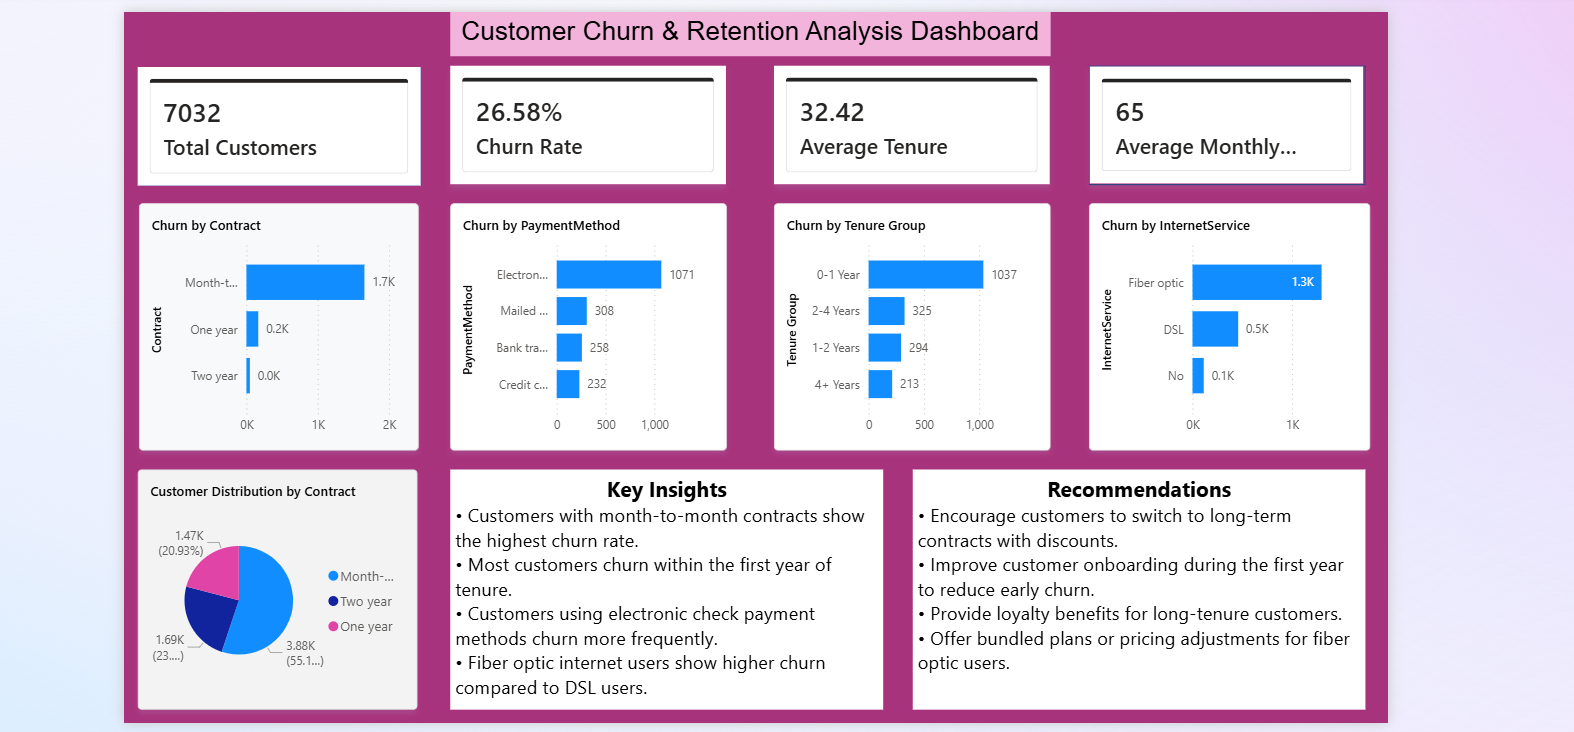

The dashboard page shown, as its layout file describes it:
{"tool":"powerbi","page":{"name":"Page 1","canvas":[1280,720],"ordinal":0},"visuals":[{"type":"cardVisual","fields":{"Data":["WA_Fn-UseC_-Telco-Customer-Churn.Churn Rate"]},"box":[330.7,54.9,279.9,120.8],"z":0},{"type":"cardVisual","fields":{"Data":["WA_Fn-UseC_-Telco-Customer-Churn.Average Tenure"]},"box":[658.7,54.9,279.9,120.8],"z":1000},{"type":"cardVisual","fields":{"Data":["WA_Fn-UseC_-Telco-Customer-Churn.Average Monthly Revenue"]},"box":[977,54.9,279.9,120.8],"z":2000},{"type":"cardVisual","fields":{"Data":["WA_Fn-UseC_-Telco-Customer-Churn.Total Customers"]},"box":[13.8,55.4,286.2,120],"z":3000},{"type":"clusteredBarChart","title":"Churn by Contract","fields":{"Category":["WA_Fn-UseC_-Telco-Customer-Churn.Contract"],"Y":["CountNonNull(WA_Fn-UseC_-Telco-Customer-Churn.customerID)"]},"box":[15.4,193.8,283.1,250.8],"z":4000},{"type":"clusteredBarChart","title":"Churn by PaymentMethod","fields":{"Category":["WA_Fn-UseC_-Telco-Customer-Churn.PaymentMethod"],"Y":["CountNonNull(WA_Fn-UseC_-Telco-Customer-Churn.customerID)"]},"box":[330.8,193.8,280,250.8],"z":5000},{"type":"clusteredBarChart","title":"Churn  by Tenure Group","fields":{"Category":["WA_Fn-UseC_-Telco-Customer-Churn.Tenure Group"],"Y":["CountNonNull(WA_Fn-UseC_-Telco-Customer-Churn.customerID)"]},"box":[658.5,193.8,280,250.8],"z":6000},{"type":"clusteredBarChart","title":"Churn by InternetService","fields":{"Category":["WA_Fn-UseC_-Telco-Customer-Churn.InternetService"],"Y":["CountNonNull(WA_Fn-UseC_-Telco-Customer-Churn.customerID)"]},"box":[976.9,193.8,284.6,250.8],"z":7000},{"type":"pieChart","title":"Customer Distribution by Contract","fields":{"Category":["WA_Fn-UseC_-Telco-Customer-Churn.Contract"],"Y":["CountNonNull(WA_Fn-UseC_-Telco-Customer-Churn.customerID)"]},"box":[13.8,463.1,283.1,243.1],"z":8000},{"type":"textbox","box":[330.8,463.1,438.5,243.1],"z":9000},{"type":"textbox","box":[798.5,463.1,458.5,243.1],"z":10000},{"type":"textbox","box":[330.8,0,607.7,44.6],"z":10001}]}

Visuals, with their boxes in screenshot pixels (x1, y1, x2, y2):
cardVisual - WA_Fn-UseC_-Telco-Customer-Churn.Churn Rate: x1=443 y1=59 x2=724 y2=181
cardVisual - WA_Fn-UseC_-Telco-Customer-Churn.Average Tenure: x1=773 y1=59 x2=1054 y2=181
cardVisual - WA_Fn-UseC_-Telco-Customer-Churn.Average Monthly Revenue: x1=1093 y1=59 x2=1374 y2=181
cardVisual - WA_Fn-UseC_-Telco-Customer-Churn.Total Customers: x1=125 y1=60 x2=412 y2=180
"Churn by Contract" clusteredBarChart: x1=126 y1=199 x2=411 y2=451
"Churn by PaymentMethod" clusteredBarChart: x1=443 y1=199 x2=724 y2=451
"Churn  by Tenure Group" clusteredBarChart: x1=772 y1=199 x2=1054 y2=451
"Churn by InternetService" clusteredBarChart: x1=1092 y1=199 x2=1378 y2=451
"Customer Distribution by Contract" pieChart: x1=125 y1=469 x2=409 y2=714
textbox: x1=443 y1=469 x2=884 y2=714
textbox: x1=913 y1=469 x2=1374 y2=714
textbox: x1=443 y1=4 x2=1054 y2=49
